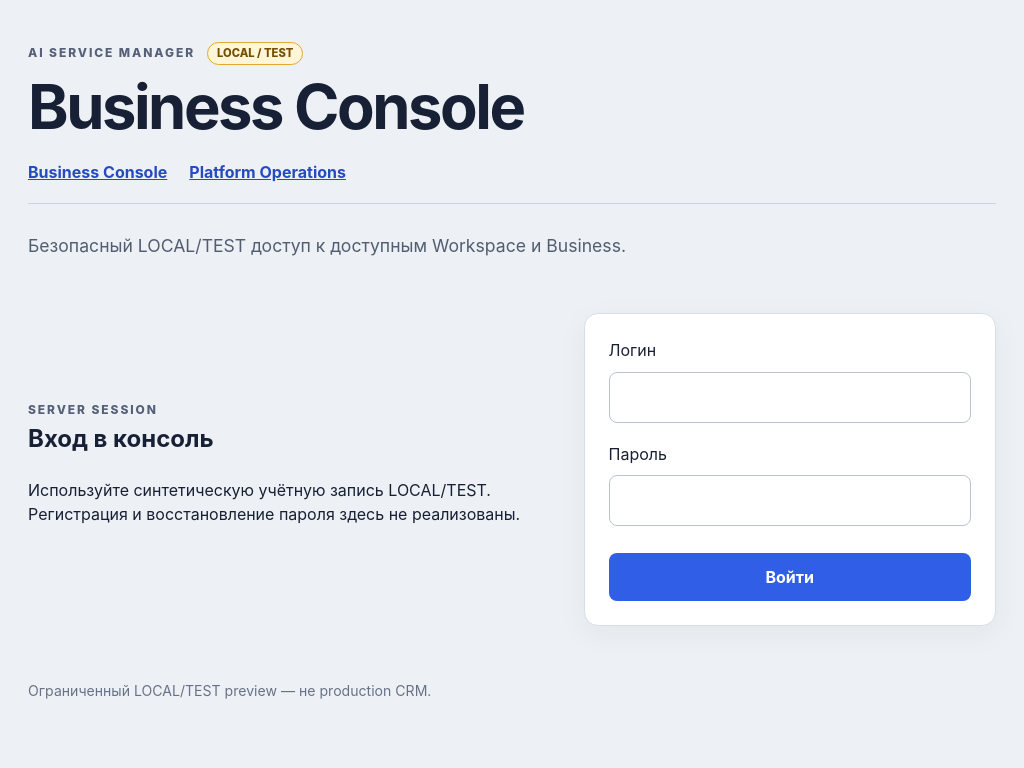
it: Business Console auth › shows a safe invalid-credential error and supports rate limiting
Type "owner.test" into the field labelled "Логин" at (790, 397), box [608,372,971,422]
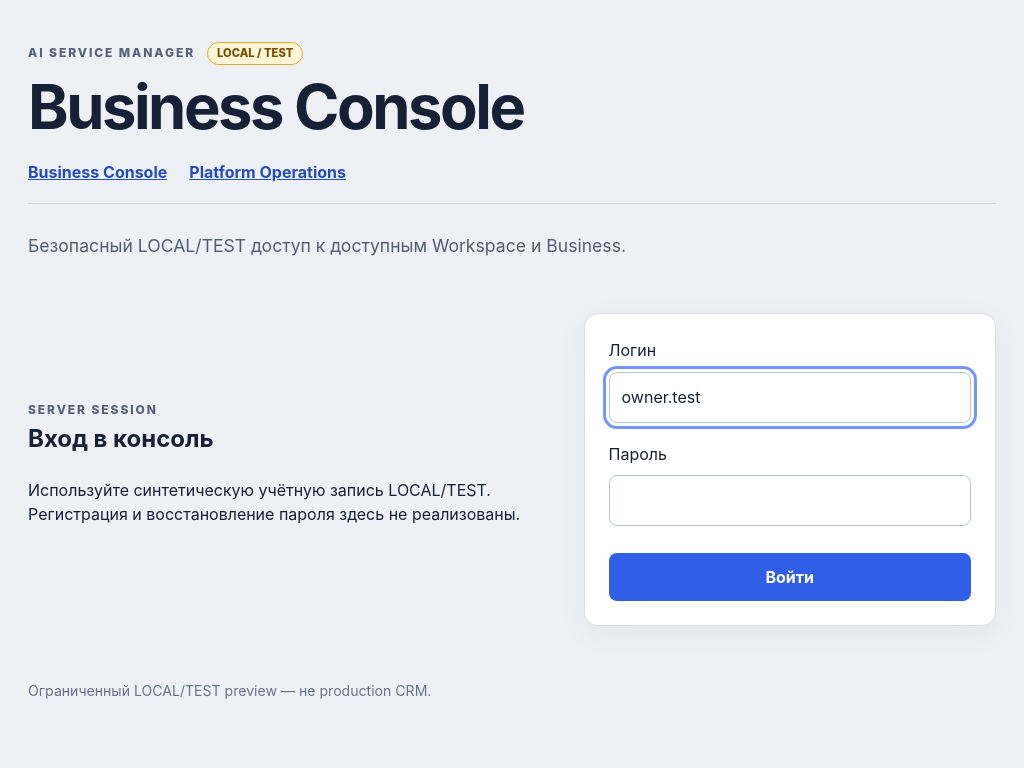
Type "wrong-password-1" into the password field labelled "Пароль" at (790, 501), box [608,475,971,526]
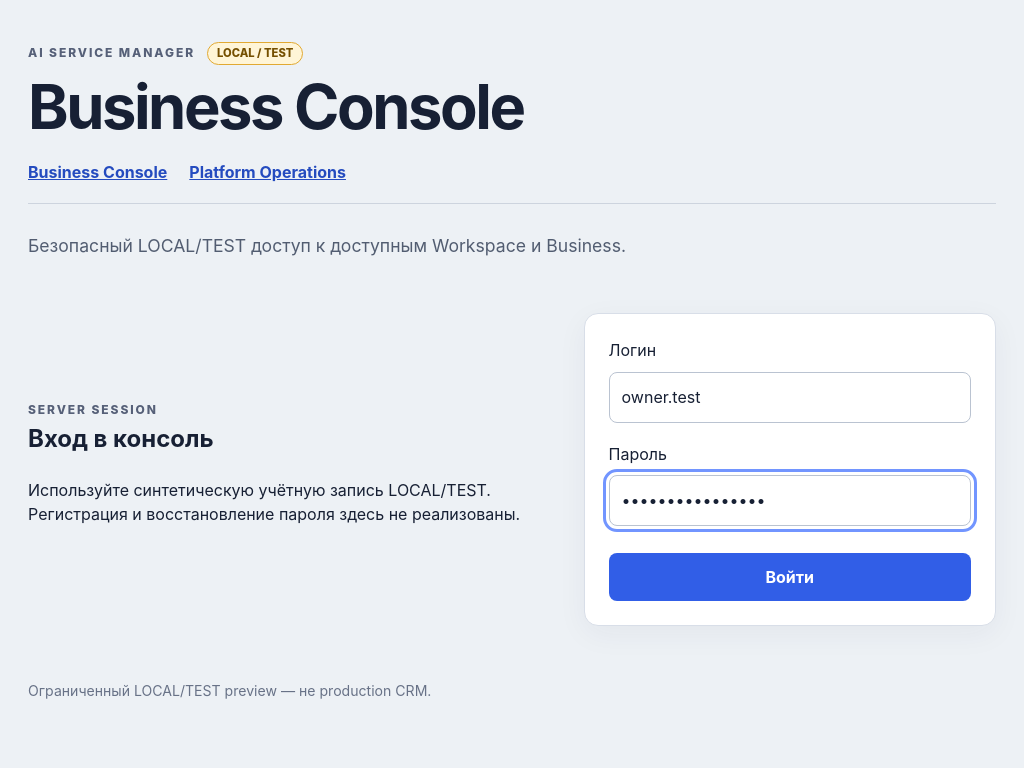
Click the button "Войти" at (790, 577), box [608,553,971,601]
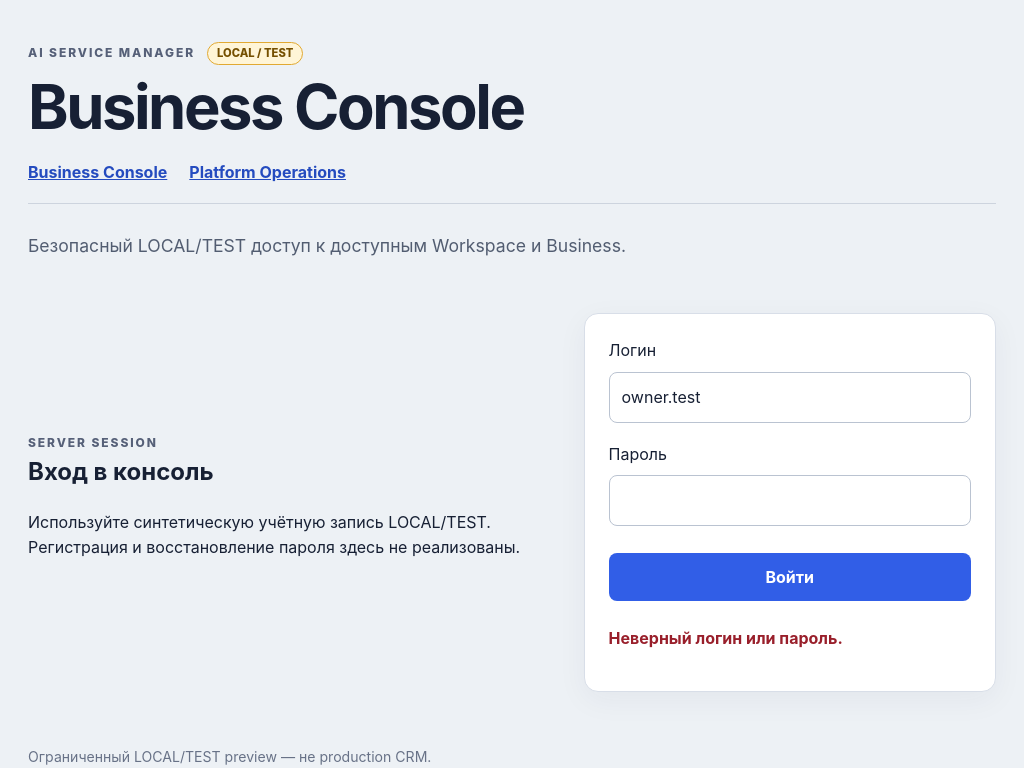
Check: the text "Неверный логин или пароль." is shown, box [608,628,843,648]
